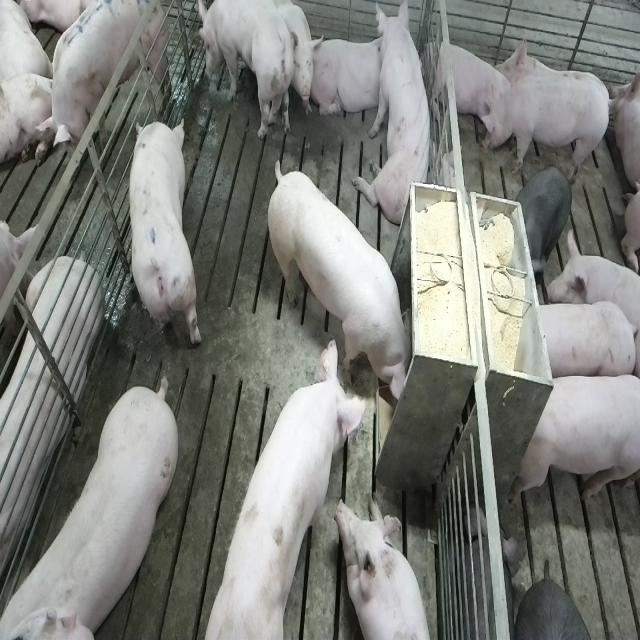Feeding: (198, 326, 370, 634), (271, 161, 421, 409)
Sitting: (195, 1, 321, 145), (356, 4, 436, 227)
Standing: (5, 375, 184, 635), (31, 0, 166, 177), (124, 118, 200, 354), (516, 371, 638, 510), (480, 78, 615, 184), (545, 232, 636, 338), (531, 302, 636, 380), (517, 164, 576, 271)
Sternal_lying: (0, 240, 101, 585), (337, 495, 437, 640), (430, 35, 509, 132), (310, 35, 388, 121)
